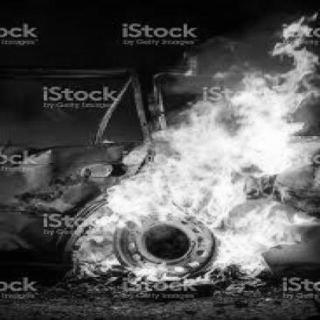Fire: (1, 10, 315, 298)
